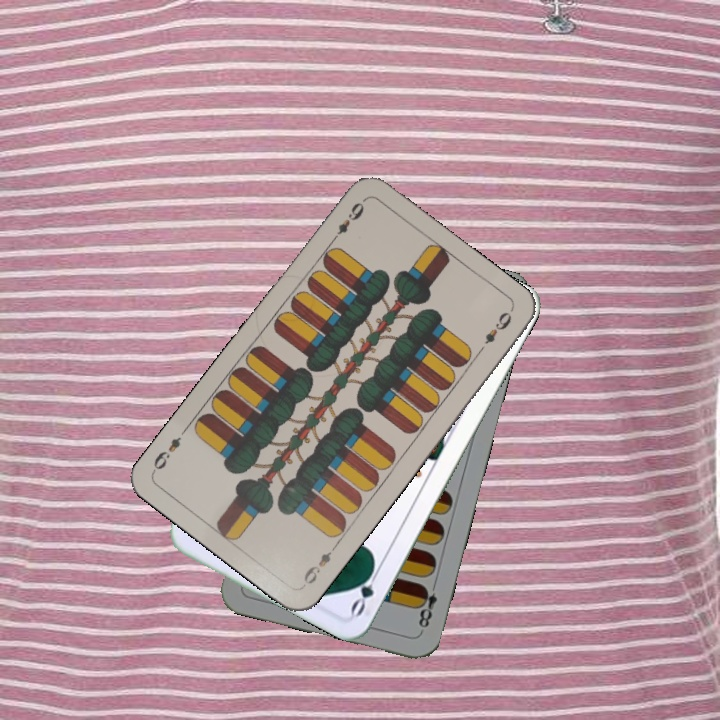E8: (413, 577, 440, 635)
E9: (299, 540, 340, 587), (327, 198, 367, 246)
GO: (346, 560, 383, 619)
